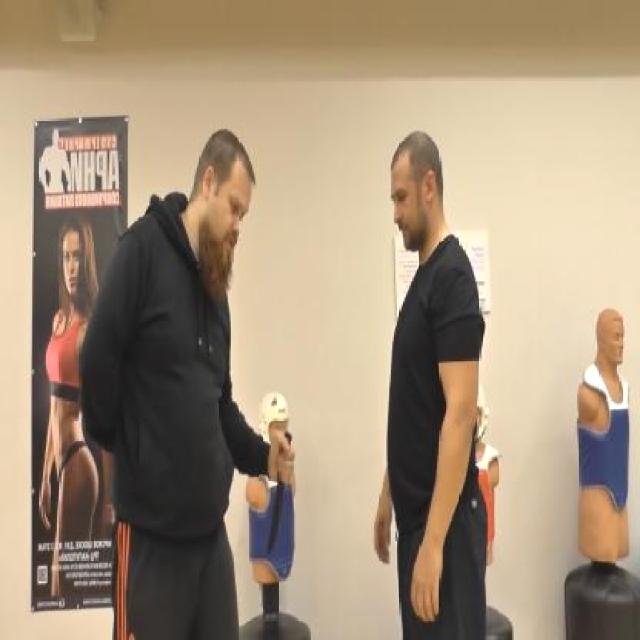knife: (266, 426, 297, 557)
